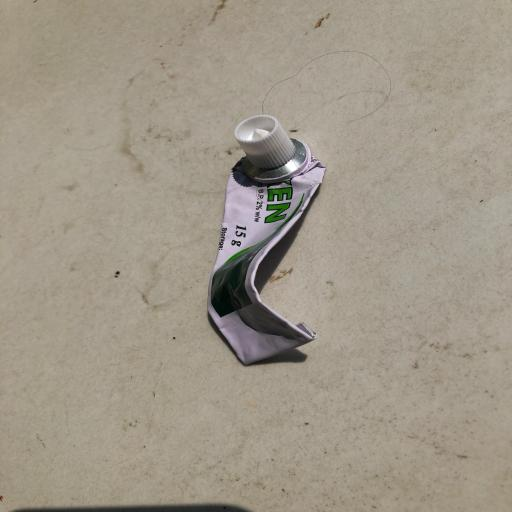waste: (205, 112, 351, 371)
